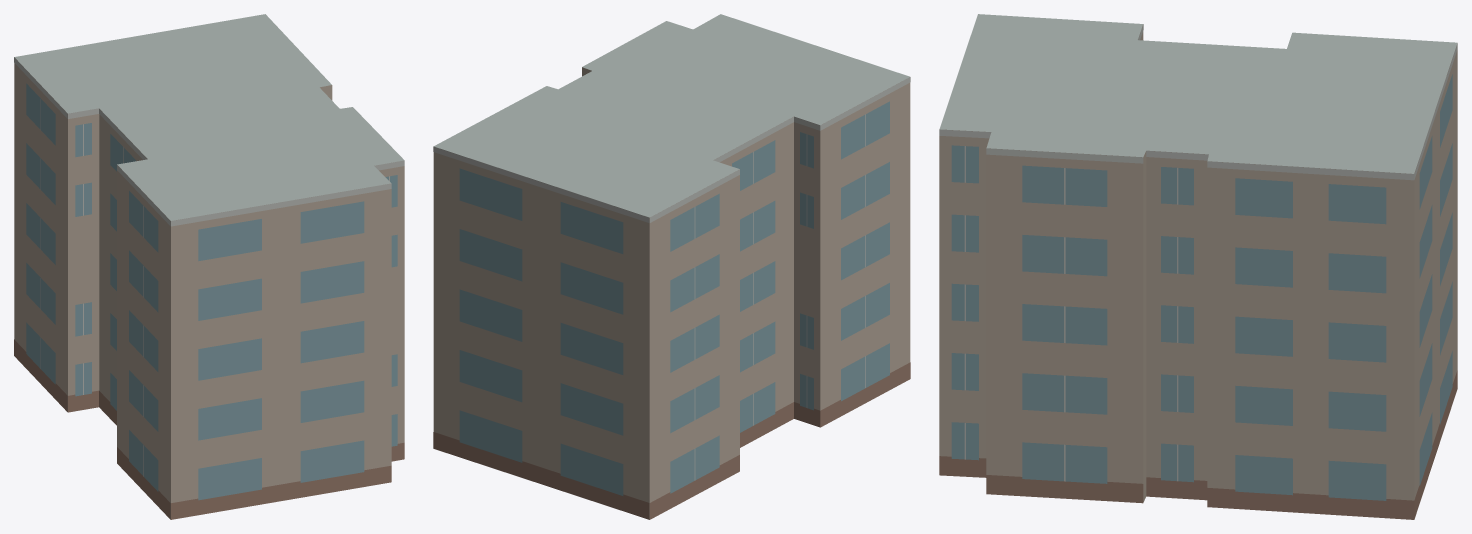
File: survey-upis-33040206.glb
3 renders of one model, left to right at view 1: azimuth 30°, elevation 25°; view 2: azimuth 150°, elevation 25°; view 3: azimuth 270°, elevation 25°, orthographic. The views are drawn at different scales.
Visible parts, largest first — view 1: survey-upis-33040206.tmp; view 2: survey-upis-33040206.tmp; view 3: survey-upis-33040206.tmp.
Part boxes in pixels (x1,y1,x2,y2): survey-upis-33040206.tmp: [14, 14, 404, 519]; survey-upis-33040206.tmp: [433, 14, 910, 519]; survey-upis-33040206.tmp: [939, 14, 1457, 519].
Bounding box in the file's own units: 13.05 × 13.15 × 17.86.
